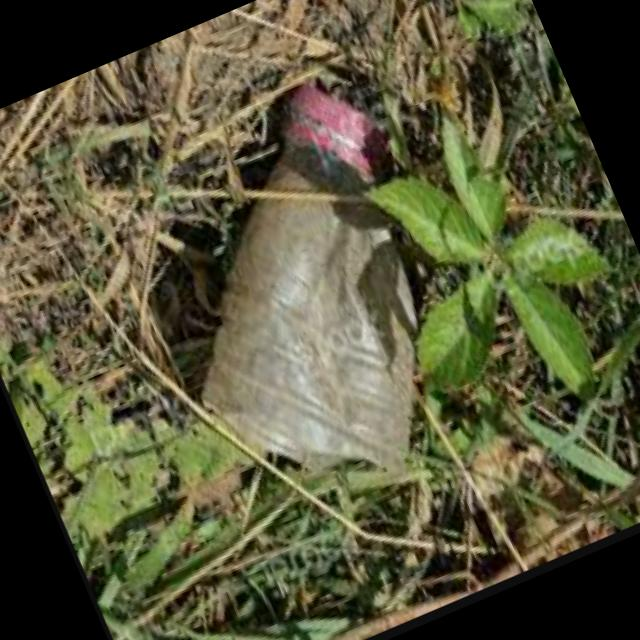GelasPlastik: (102, 61, 511, 537)
